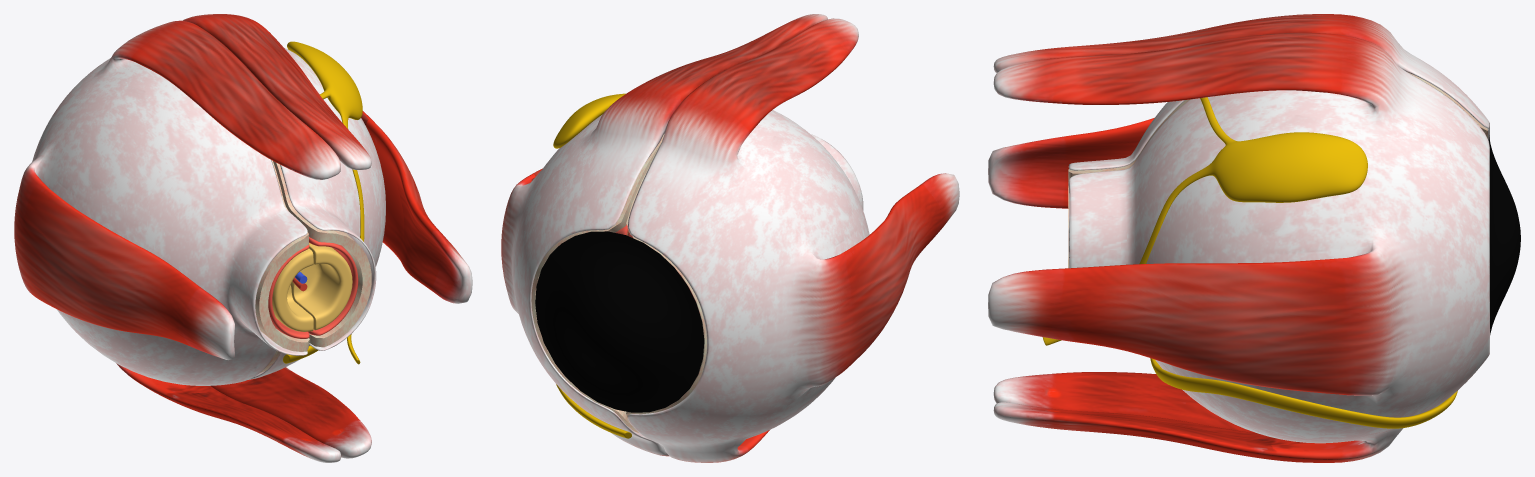
The model's file is OJO_V1.fbx.
3 views of the same model, side by side, from view 1: azimuth 30°, elevation 25°; view 2: azimuth 150°, elevation 25°; view 3: azimuth 270°, elevation 25° (orthographic). The views are drawn at different scales.
Parts seen in each view (by area): view 1: capa1_izquierda, capa1_derecha, capa4_derecha, lagrimal, capa2_derecha, capa2_izquierda, capa4_izquierda, capa3_derecha, capa3_izquierda; view 2: capa1_izquierda, retina, capa1_derecha, lagrimal, capa2_derecha, capa2_izquierda; view 3: capa1_derecha, capa1_izquierda, lagrimal, retina, capa2_izquierda.
Part boxes in pixels (x1,y1,x2,y2): capa1_izquierda: (14,20,340,462); capa1_derecha: (183,14,472,458); capa4_derecha: (290,243,352,330); lagrimal: (283,41,364,364); capa2_derecha: (260,161,371,372); capa2_izquierda: (255,160,309,351); capa4_izquierda: (272,248,313,331); capa3_derecha: (308,237,358,335); capa3_izquierda: (268,244,309,338); capa1_izquierda: (627,18,959,462); retina: (535,231,704,412); capa1_derecha: (501,14,827,456); lagrimal: (553,93,631,438); capa2_derecha: (531,134,664,432); capa2_izquierda: (626,166,706,417); capa1_derecha: (988,32,1490,462); capa1_izquierda: (988,14,1489,433); lagrimal: (1042,97,1457,428); retina: (1488,130,1520,334); capa2_izquierda: (1068,72,1487,267).
Bounding box in the file's own units: 223 × 224 × 259.
Materials: 11 (7 with a texture image).
